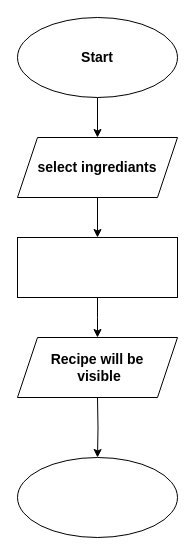
This 195x555 diagram has some shape labels left out. Here are the shapes that lost their labels. From the top down, the centre of each, then its label:
the point at 97,267: click on recipe
the point at 97,497: End
